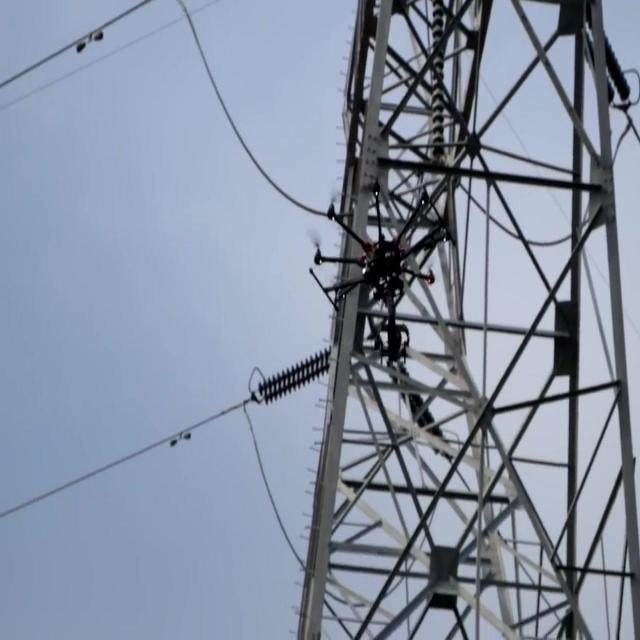UAV: (309, 182, 435, 366)
